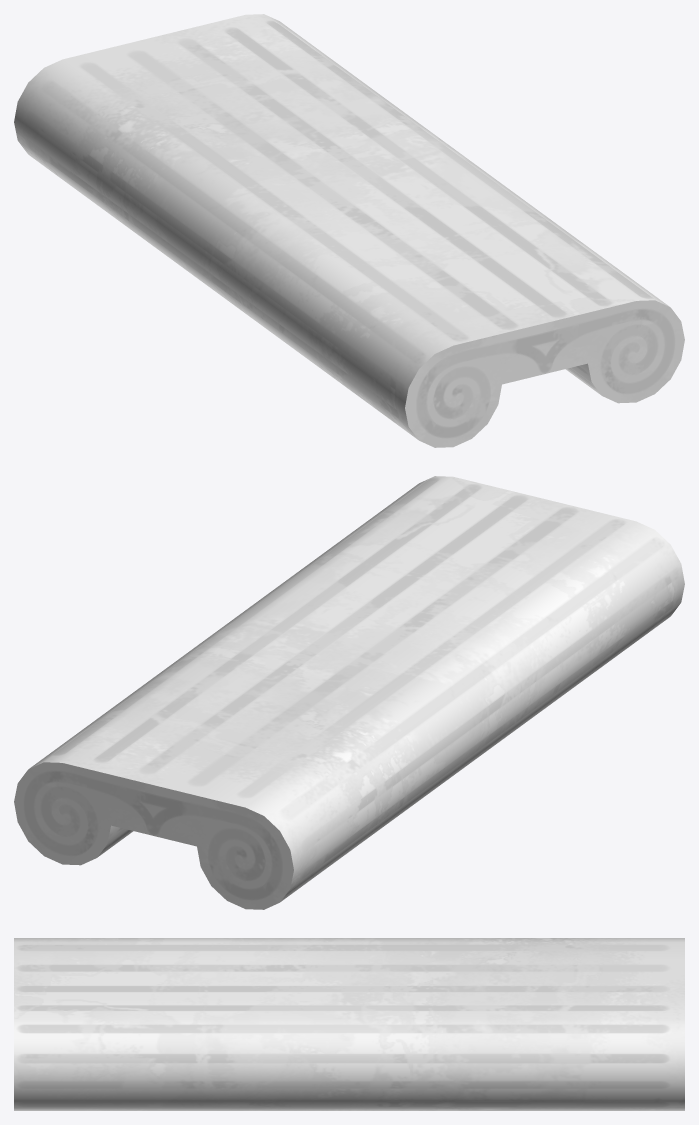
Rendered from GreekPlatform.fbx.
The picture shows the model from 3 angles, top to bottom: view 1: azimuth 30°, elevation 25°; view 2: azimuth 150°, elevation 25°; view 3: azimuth 270°, elevation 25°; orthographic projection. The views are drawn at different scales.
Visible parts, largest first — view 1: Cylinder.009; view 2: Cylinder.009; view 3: Cylinder.009.
Boxes of the visible parts, box(x1,y1,x2,y2) form: Cylinder.009: box(14, 14, 684, 447); Cylinder.009: box(14, 476, 684, 909); Cylinder.009: box(14, 938, 684, 1110).
Bounding box in the file's own units: 1008 × 350 × 2437.
1 material, 1 textured.
